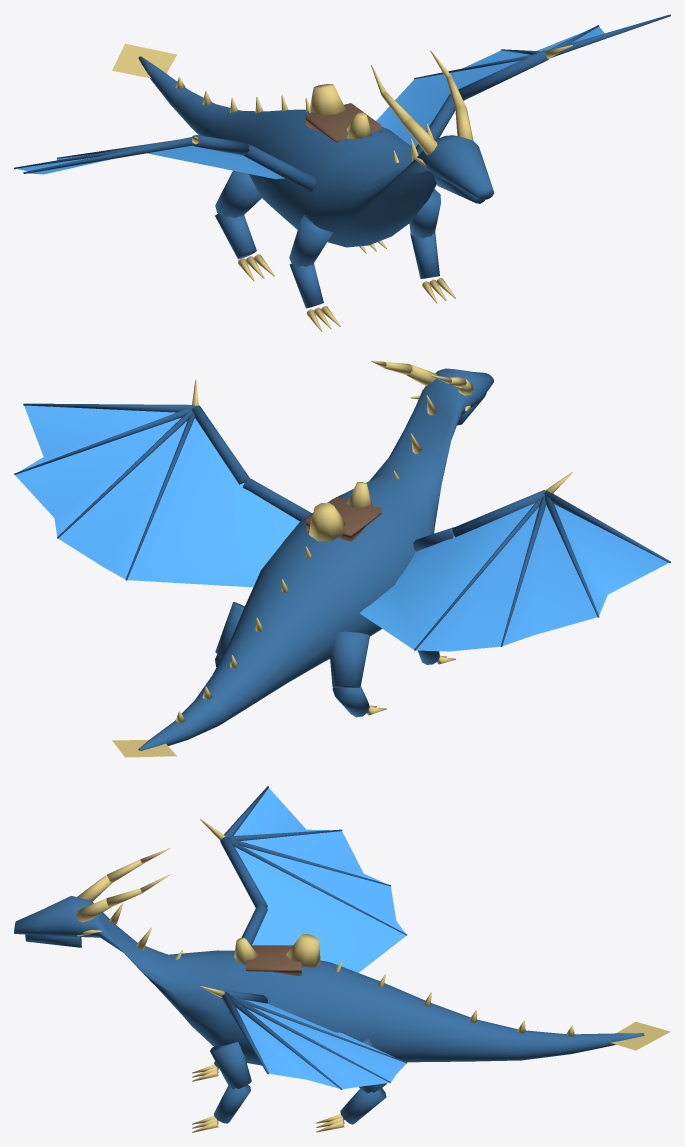
The model's file is dragon_mount_saphira.glb.
The picture shows the model from 3 angles, top to bottom: view 1: azimuth 30°, elevation 25°; view 2: azimuth 150°, elevation 25°; view 3: azimuth 270°, elevation 25°; orthographic projection. The views are drawn at different scales.
Parts seen in each view (by area): view 1: SaphiraBody, SaphiraWing_1, SaphiraWing_-1, BackUpperLeg_-1, FrontUpperLeg_-1, TailFin, Cube, WingRadius_1, WingHumerus_-1, BackLowerLeg_-1, WingFinger1_-1, FrontLowerLeg_1 (+8 smaller); view 2: SaphiraWing_1, SaphiraBody, SaphiraWing_-1, BackUpperLeg_-1, Cube, SaddleCantle, WingRadius_1, WingFinger1_1, WingRadius_-1, WingHumerus_1, WingFinger2_1, WingFinger1_-1 (+8 smaller); view 3: SaphiraBody, SaphiraWing_-1, SaphiraWing_1, Cube, FrontUpperLeg_1, BackLowerLeg_1, WingRadius_-1, SaddleCantle, TailFin, FrontLowerLeg_1, WingFinger4_-1, WingFinger3_-1 (+5 smaller).
Boxes of the visible parts, left/top/right/bottom form: SaphiraBody: left=138, top=56, right=493, bottom=247; SaphiraWing_1: left=376, top=26, right=604, bottom=147; SaphiraWing_-1: left=16, top=145, right=284, bottom=179; BackUpperLeg_-1: left=215, top=170, right=261, bottom=217; FrontUpperLeg_-1: left=289, top=215, right=332, bottom=267; TailFin: left=112, top=43, right=176, bottom=78; Cube: left=306, top=103, right=381, bottom=142; WingRadius_1: left=458, top=50, right=548, bottom=100; WingHumerus_-1: left=243, top=144, right=316, bottom=191; BackLowerLeg_-1: left=215, top=213, right=256, bottom=259; WingFinger1_-1: left=23, top=136, right=196, bottom=173; FrontLowerLeg_1: left=410, top=232, right=439, bottom=278; SaphiraWing_1: left=15, top=405, right=299, bottom=587; SaphiraBody: left=138, top=368, right=493, bottom=750; SaphiraWing_-1: left=359, top=503, right=668, bottom=651; BackUpperLeg_-1: left=330, top=631, right=369, bottom=687; Cube: left=306, top=497, right=381, bottom=541; SaddleCantle: left=309, top=502, right=345, bottom=541; WingRadius_1: left=191, top=405, right=249, bottom=484; WingFinger1_1: left=23, top=403, right=194, bottom=412; WingRadius_-1: left=452, top=490, right=544, bottom=537; WingHumerus_1: left=242, top=477, right=311, bottom=521; WingFinger2_1: left=14, top=409, right=191, bottom=474; WingFinger1_-1: left=544, top=490, right=670, bottom=562; SaphiraBody: left=14, top=896, right=644, bottom=1065; SaphiraWing_-1: left=233, top=788, right=406, bottom=972; SaphiraWing_1: left=236, top=1000, right=406, bottom=1089; Cube: left=246, top=945, right=301, bottom=975; FrontUpperLeg_1: left=210, top=1042, right=251, bottom=1089; BackLowerLeg_1: left=340, top=1088, right=386, bottom=1124; WingRadius_-1: left=220, top=836, right=267, bottom=907; SaddleCantle: left=286, top=933, right=320, bottom=967; TailFin: left=610, top=1022, right=670, bottom=1050; FrontLowerLeg_1: left=214, top=1085, right=250, bottom=1123; WingFinger4_-1: left=231, top=840, right=407, bottom=935; WingFinger3_-1: left=230, top=838, right=390, bottom=886.
Bounding box in the file's own units: 8.31 × 3.27 × 8.04.
